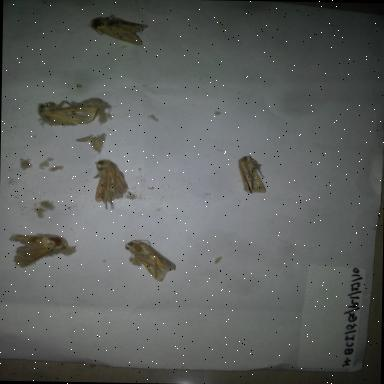abw: (4, 224, 80, 277), (109, 234, 187, 284), (26, 92, 119, 131), (76, 12, 158, 51), (88, 156, 132, 214), (233, 150, 273, 200)
